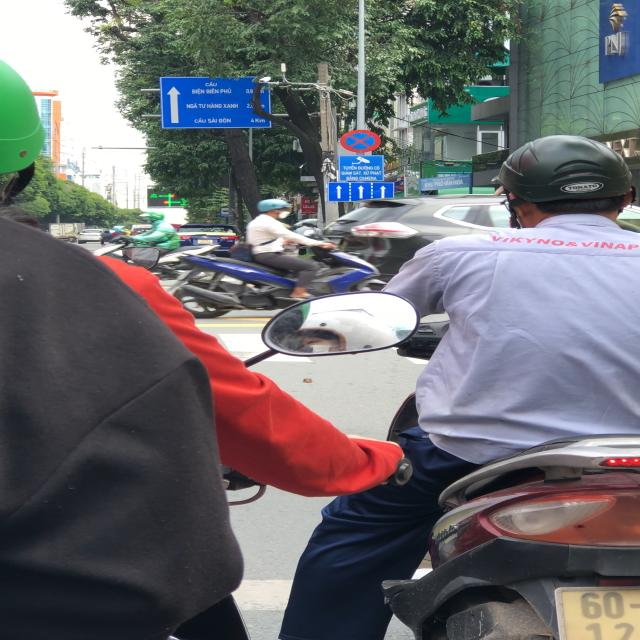Bien bao cam dung xe va do xe: (337, 126, 384, 153)
